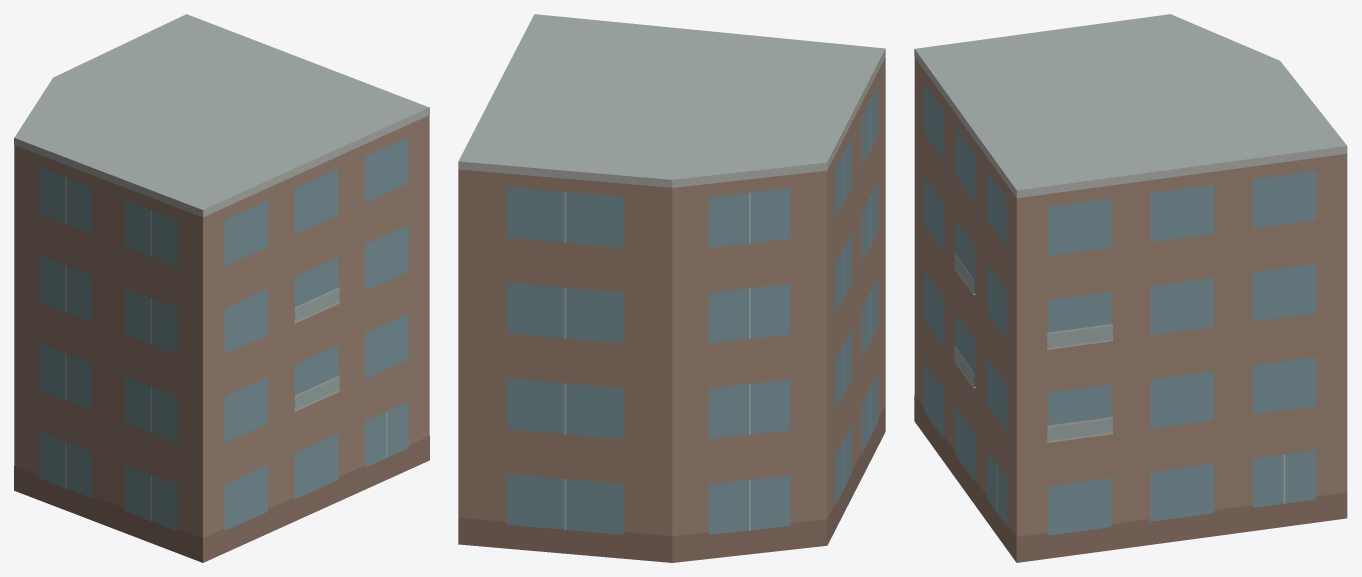
File: survey-upis-33015733.glb
3 renders of one model, left to right at view 1: azimuth 30°, elevation 25°; view 2: azimuth 150°, elevation 25°; view 3: azimuth 270°, elevation 25°, orthographic. The views are drawn at different scales.
Parts seen in each view (by area): view 1: survey-upis-33015733.tmp; view 2: survey-upis-33015733.tmp; view 3: survey-upis-33015733.tmp.
Part boxes in pixels (x1,y1,x2,y2): survey-upis-33015733.tmp: [14, 14, 429, 562]; survey-upis-33015733.tmp: [458, 14, 885, 562]; survey-upis-33015733.tmp: [914, 14, 1347, 562].
Size of the model in its own units: 11.9 by 11.7 by 12.34.
